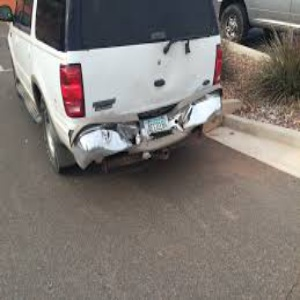bumper: (69, 110, 138, 170)
